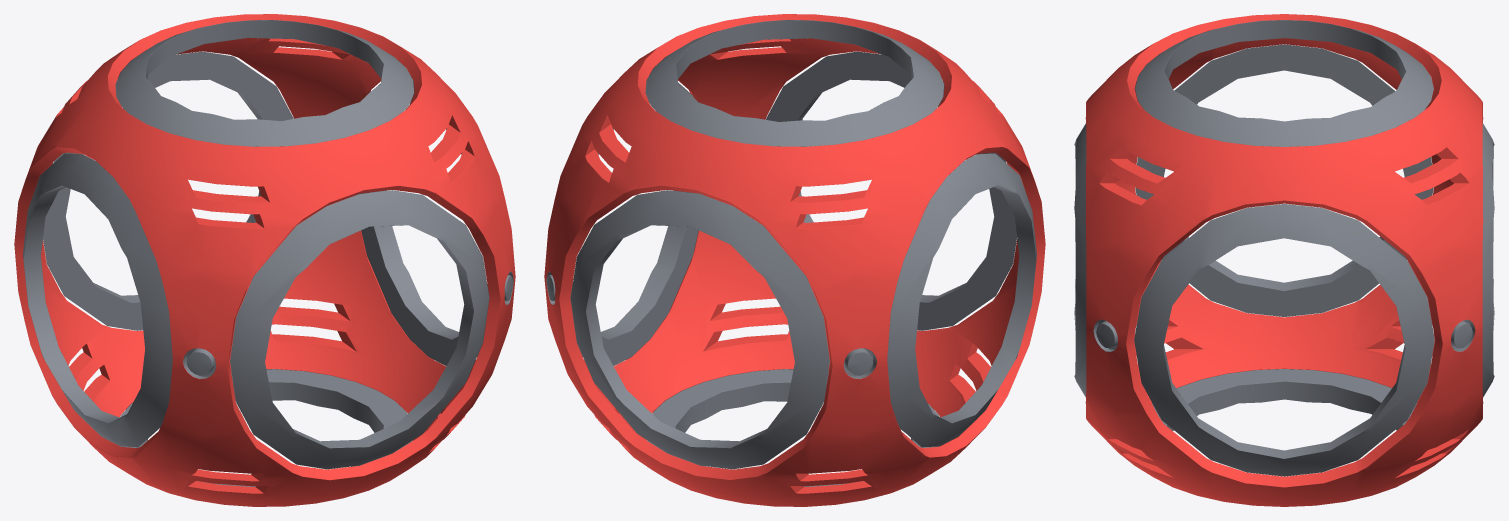
File: Outer Shell Final2.fbx
3 views of the same model, side by side, from view 1: azimuth 30°, elevation 25°; view 2: azimuth 150°, elevation 25°; view 3: azimuth 270°, elevation 25° (orthographic).
Parts seen in each view (by area): view 1: Sphere.002, Slice.005, Slice.004, Slice.003; view 2: Sphere.002, Slice.005, Slice.004, Slice.003; view 3: Sphere.002, Slice.004, Slice.003, Slice.005.
Part boxes in pixels (x1,y1,x2,y2): Sphere.002: [14, 14, 515, 506]; Slice.005: [43, 51, 489, 469]; Slice.004: [23, 75, 489, 447]; Slice.003: [115, 20, 414, 486]; Sphere.002: [544, 14, 1045, 506]; Slice.005: [570, 51, 1016, 469]; Slice.004: [570, 75, 1036, 447]; Slice.003: [645, 19, 944, 486]; Sphere.002: [1085, 14, 1483, 506]; Slice.004: [1134, 44, 1434, 476]; Slice.003: [1135, 20, 1433, 430]; Slice.005: [1074, 123, 1494, 397].
Bounding box in the file's own units: 173 × 174 × 173.
